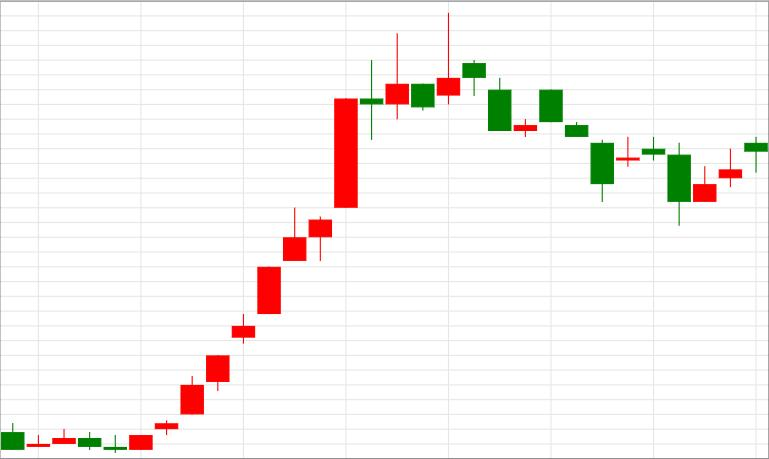shooting_star_fall: (129, 34, 408, 450)
